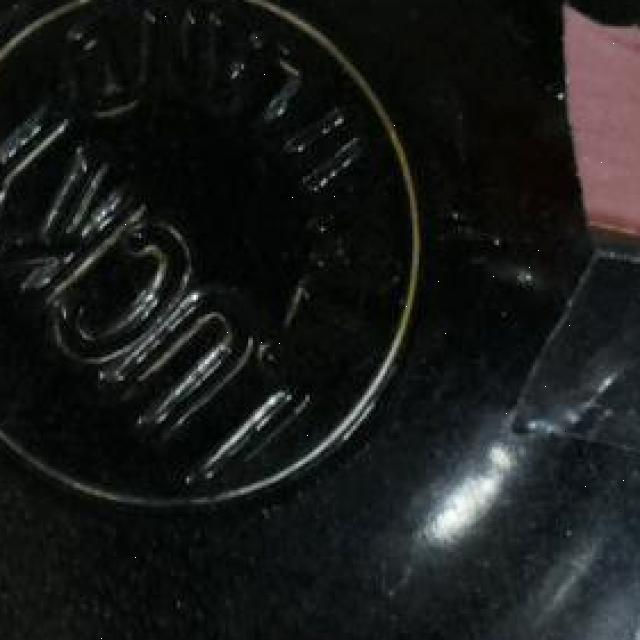Microplastic: (560, 7, 640, 281)
